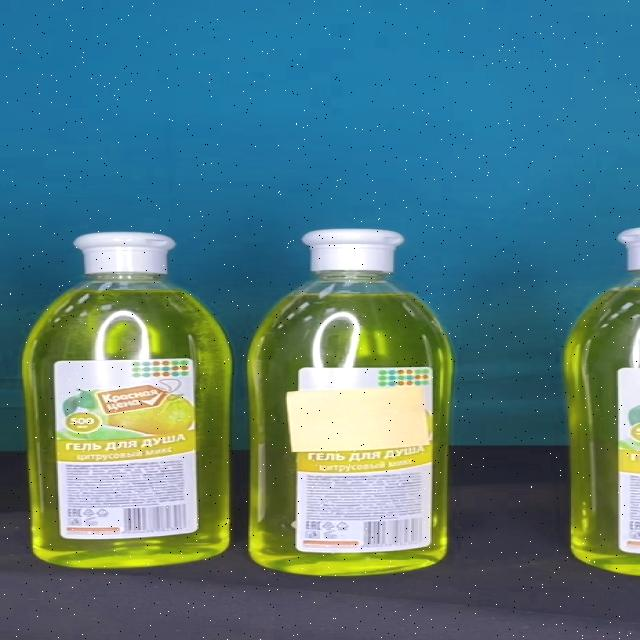Bottle: (22, 231, 232, 570), (248, 229, 453, 576)
Cap: (73, 232, 176, 274), (300, 230, 402, 272)
